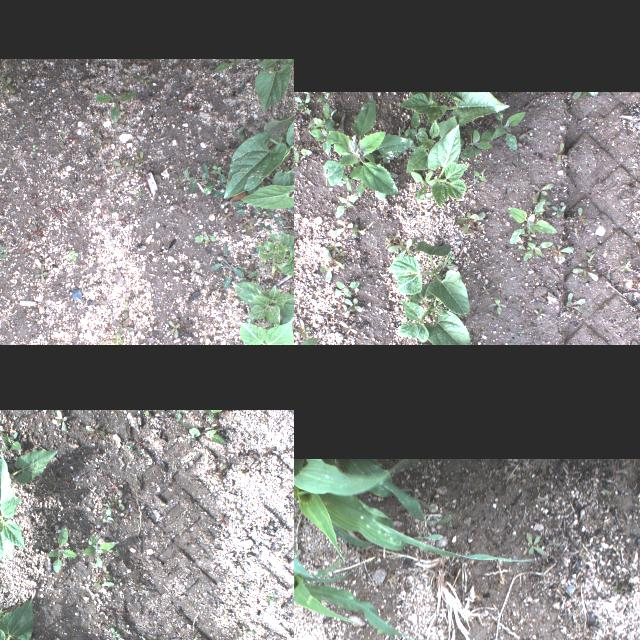crop: (294, 459, 539, 565), (294, 490, 437, 640), (222, 103, 294, 199), (0, 448, 57, 563), (388, 243, 469, 319), (406, 118, 466, 206), (397, 283, 473, 345), (396, 92, 510, 126), (239, 185, 294, 241), (232, 279, 294, 326), (253, 58, 294, 111), (224, 315, 294, 345), (256, 233, 294, 277)
weed: (322, 96, 412, 194), (506, 202, 556, 244), (172, 162, 225, 198), (46, 525, 76, 573), (210, 247, 242, 290), (92, 91, 136, 122), (492, 111, 526, 151), (82, 532, 116, 568), (462, 126, 496, 160), (308, 118, 338, 156), (399, 112, 426, 144), (410, 172, 438, 202), (320, 248, 342, 282), (188, 426, 225, 444), (455, 211, 485, 233), (522, 531, 546, 557), (336, 192, 358, 220), (523, 243, 551, 261), (382, 239, 412, 255), (566, 292, 586, 316), (329, 220, 353, 238), (213, 58, 243, 72), (333, 282, 359, 298), (1, 431, 21, 451), (343, 298, 362, 318), (295, 93, 311, 115), (316, 94, 332, 115), (533, 183, 553, 199), (294, 142, 308, 163), (294, 318, 308, 339), (550, 245, 574, 257), (571, 270, 599, 280), (554, 142, 566, 164), (92, 582, 114, 594), (99, 334, 122, 345), (0, 75, 14, 93), (487, 296, 501, 314), (336, 174, 350, 192), (86, 422, 104, 436), (55, 411, 67, 431), (0, 234, 8, 263), (34, 266, 48, 282), (108, 496, 124, 510), (200, 410, 222, 420), (194, 234, 216, 243), (550, 205, 566, 217), (102, 508, 115, 522), (168, 320, 178, 338), (572, 92, 594, 100), (473, 170, 487, 182), (534, 308, 546, 322), (351, 224, 363, 238), (108, 626, 120, 640), (576, 208, 586, 224), (517, 129, 533, 139), (358, 222, 374, 232), (100, 564, 110, 580), (230, 582, 244, 592), (108, 484, 122, 494), (68, 250, 78, 260), (521, 246, 531, 256), (619, 264, 631, 272), (268, 592, 274, 604)
